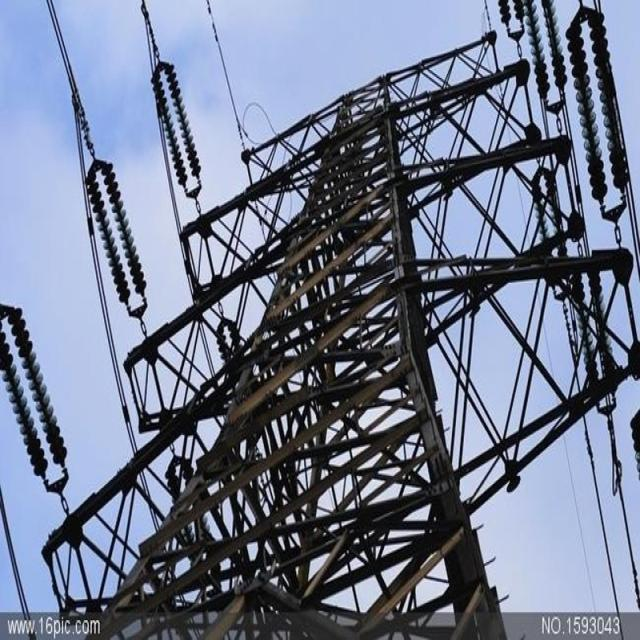non-critical vegetation: (63, 98, 608, 598)
